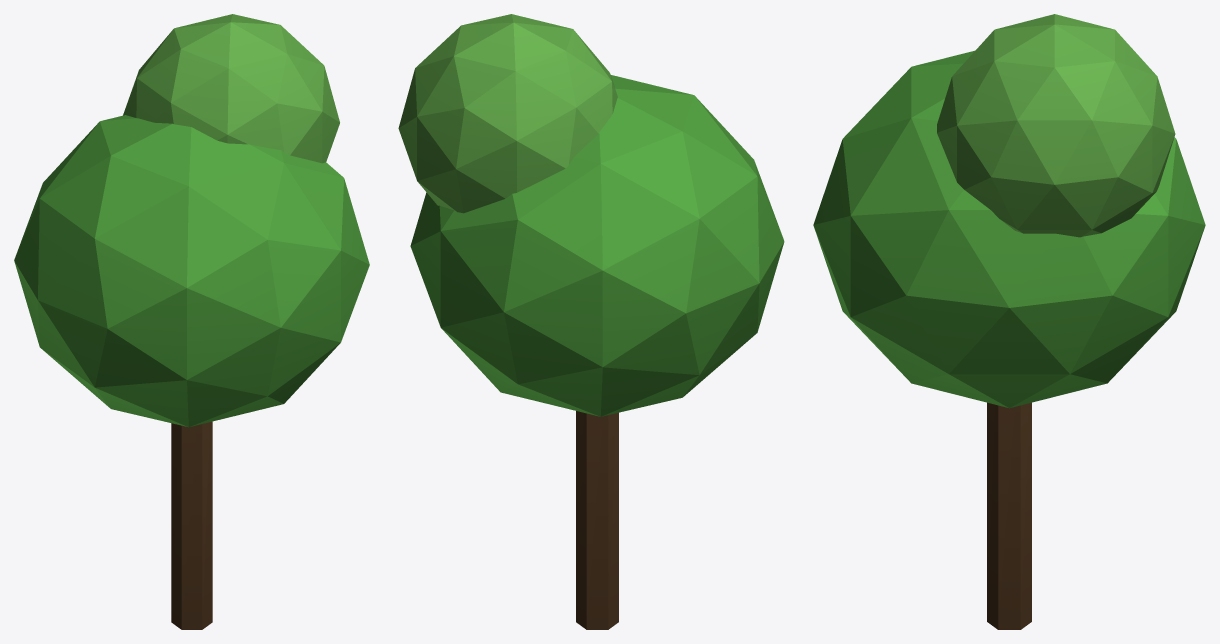
Rendered from tree.glb.
3 renders of one model, left to right at view 1: azimuth 30°, elevation 25°; view 2: azimuth 150°, elevation 25°; view 3: azimuth 270°, elevation 25°, orthographic. The views are drawn at different scales.
Bounding box in the file's own units: 2.6 × 4.6 × 2.6.
